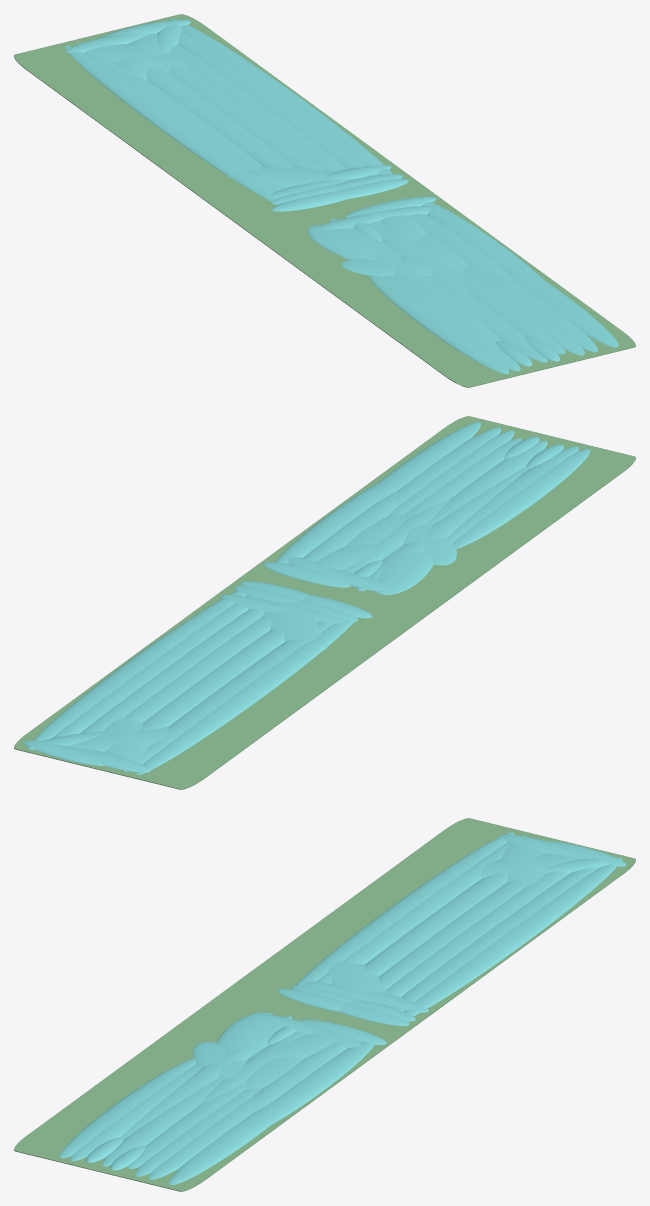
Rendered from park6.glb.
The picture shows the model from 3 angles, top to bottom: view 1: azimuth 30°, elevation 25°; view 2: azimuth 150°, elevation 25°; view 3: azimuth 330°, elevation 25°; orthographic projection.
Parts seen in each view (by area): view 1: land, Water 19, Water 34, Water 16, Water 33, Water 18, Water 15, Water 17, Water 7, Water 29, Water 30, Water (+23 smaller); view 2: land, Water 19, Water 34, Water 16, Water 33, Water 18, Water 15, Water 17, Water 7, Water 30, Water 29, Water (+23 smaller); view 3: land, Water 34, Water 19, Water 18, Water 16, Water 17, Water 33, Water 15, Water 29, Water 30, Water 7, Water (+22 smaller).
Boxes of the visible parts, bbox=[...] form: land: bbox=[14, 14, 635, 387]; Water 19: bbox=[65, 45, 280, 204]; Water 34: bbox=[181, 24, 392, 175]; Water 16: bbox=[146, 67, 294, 167]; Water 33: bbox=[178, 32, 377, 176]; Water 18: bbox=[169, 45, 347, 171]; Water 15: bbox=[168, 65, 325, 170]; Water 17: bbox=[78, 43, 286, 191]; Water 7: bbox=[370, 275, 509, 373]; Water 29: bbox=[501, 267, 618, 347]; Water 30: bbox=[421, 202, 543, 279]; Water: bbox=[426, 275, 547, 362]; land: bbox=[14, 416, 635, 789]; Water 19: bbox=[136, 616, 357, 774]; Water 34: bbox=[33, 590, 246, 741]; Water 16: bbox=[141, 629, 284, 729]; Water 33: bbox=[51, 595, 257, 738]; Water 18: bbox=[80, 609, 263, 733]; Water 15: bbox=[124, 616, 270, 722]; Water 17: bbox=[123, 621, 333, 771]; Water 7: bbox=[453, 449, 590, 548]; Water 30: bbox=[275, 482, 378, 563]; Water 29: bbox=[376, 422, 480, 502]; Water: bbox=[428, 440, 547, 525]; land: bbox=[14, 818, 635, 1191]; Water 34: bbox=[403, 864, 616, 1016]; Water 19: bbox=[293, 832, 513, 989]; Water 18: bbox=[386, 871, 570, 996]; Water 16: bbox=[365, 873, 508, 975]; Water 17: bbox=[317, 835, 525, 983]; Water 33: bbox=[392, 867, 598, 1011]; Water 15: bbox=[379, 880, 525, 988]; Water 29: bbox=[168, 1101, 273, 1184]; Water 30: bbox=[271, 1042, 374, 1124]; Water 7: bbox=[59, 1058, 196, 1158]; Water: bbox=[102, 1078, 221, 1166].
Size of the model in its own units: 3 by 0.1 by 13.2.
